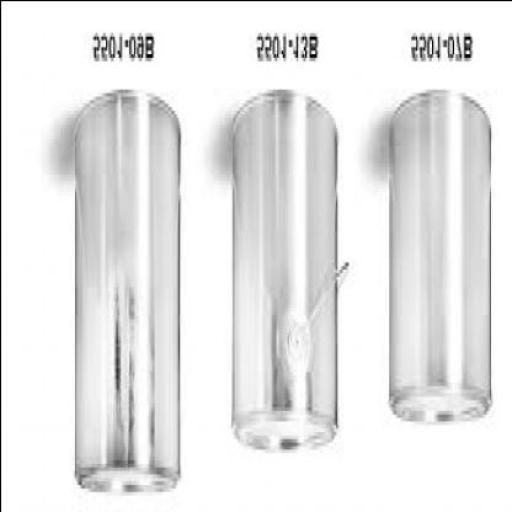metal: (71, 96, 180, 502), (230, 92, 346, 452), (386, 96, 490, 430)
